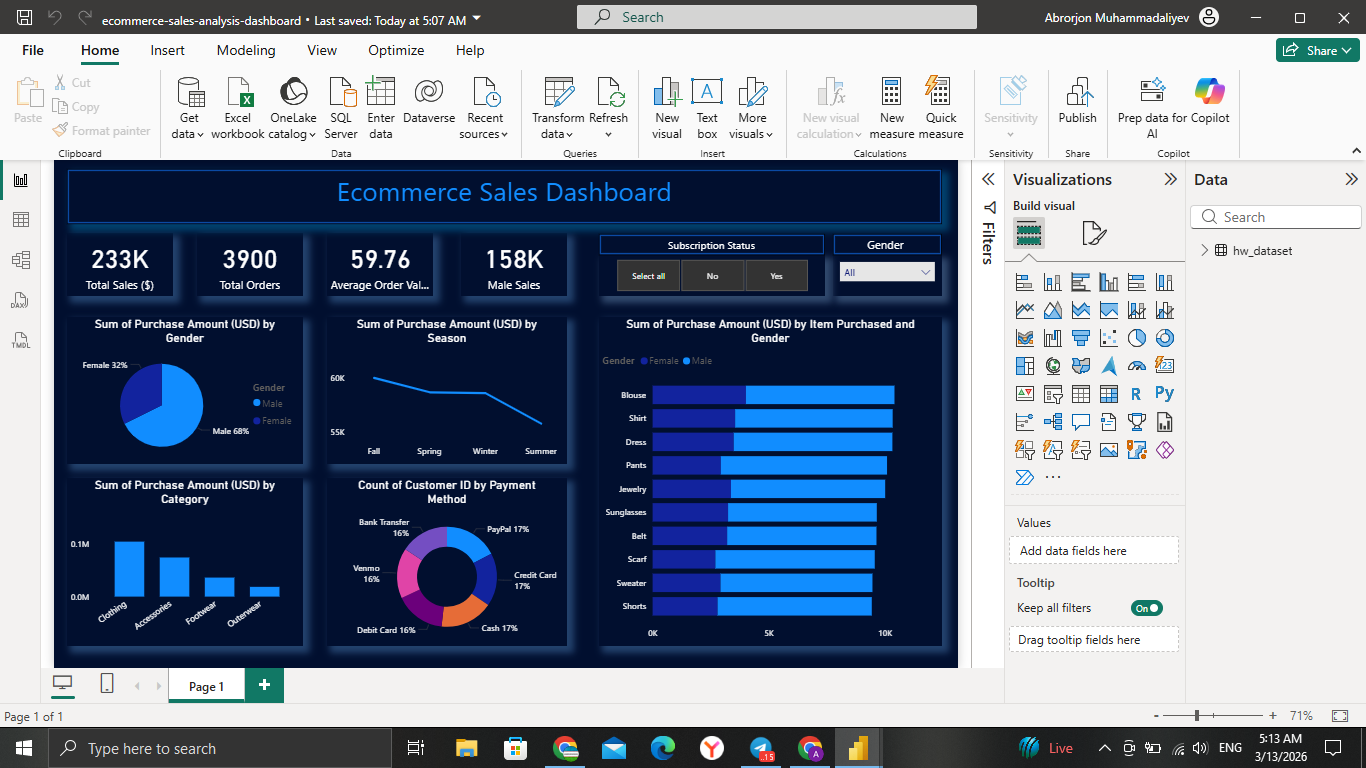

The page's visual inventory and layout, read from the dashboard file:
{"tool":"powerbi","page":{"name":"Page 1","canvas":[1280,720],"ordinal":0},"visuals":[{"type":"card","fields":{"Values":["hw_dataset.Total Orders"]},"box":[202.7,103.5,150.2,89.3],"z":0},{"type":"card","fields":{"Values":["hw_dataset.Total Sales"]},"box":[18.4,103.5,150,89.3],"z":1000},{"type":"card","fields":{"Values":["hw_dataset.Average Order Value"]},"box":[386.9,103.5,150.2,89.3],"z":2000},{"type":"card","fields":{"Values":["hw_dataset.Male Sales"]},"box":[576.9,103.5,150.2,89.3],"z":3000},{"type":"shape","box":[18.4,12.8,1240.2,78],"z":4000},{"type":"textbox","box":[63.8,12.8,1149.4,78],"z":5000},{"type":"barChart","fields":{"Category":["hw_dataset.Item Purchased"],"Y":["Sum(hw_dataset.Purchase Amount (USD))"],"Series":["hw_dataset.Gender"]},"box":[772.4,222.5,486.1,466.3],"z":6000},{"type":"pieChart","fields":{"Category":["hw_dataset.Gender"],"Y":["Sum(hw_dataset.Purchase Amount (USD))"]},"box":[18.4,222.5,334.5,208.3],"z":7000},{"type":"columnChart","fields":{"Category":["hw_dataset.Category"],"Y":["Sum(hw_dataset.Purchase Amount (USD))"]},"box":[18.4,450.7,334.5,238.1],"z":8000},{"type":"lineChart","fields":{"Category":["hw_dataset.Season"],"Y":["Sum(hw_dataset.Purchase Amount (USD))"]},"box":[386.9,222.5,340.2,208.3],"z":9000},{"type":"donutChart","fields":{"Category":["hw_dataset.Payment Method"],"Y":["CountNonNull(hw_dataset.Customer ID)"]},"box":[386.9,450.7,340.2,238.1],"z":10000},{"type":"slicer","fields":{"Values":["hw_dataset.Gender"]},"box":[1104.1,134.6,154.5,58.1],"z":11000},{"type":"slicer","fields":{"Values":["hw_dataset.Subscription Status"]},"box":[772.4,134.6,320.3,58.1],"z":12000},{"type":"shape","box":[772.4,104.9,320.3,29.8],"z":13000},{"type":"textbox","box":[782.4,104.9,299.1,29.8],"z":14000},{"type":"shape","box":[1104.1,104.9,154.5,29.8],"z":15000},{"type":"textbox","box":[1121.1,103.5,114.8,31.2],"z":16000}]}

Visuals, with their boxes on the page's 1280x720 design canvas (x1, y1, x2, y2). These are canvas units, not pixel positions in the 1366x768 screenshot, which may show the page scaled, cropped or inside an application window:
card - hw_dataset.Total Orders: 203 104 353 193
card - hw_dataset.Total Sales: 18 104 168 193
card - hw_dataset.Average Order Value: 387 104 537 193
card - hw_dataset.Male Sales: 577 104 727 193
shape: 18 13 1259 91
textbox: 64 13 1213 91
barChart - hw_dataset.Item Purchased x Sum(hw_dataset.Purchase Amount (USD)): 772 222 1258 689
pieChart - hw_dataset.Gender x Sum(hw_dataset.Purchase Amount (USD)): 18 222 353 431
columnChart - hw_dataset.Category x Sum(hw_dataset.Purchase Amount (USD)): 18 451 353 689
lineChart - hw_dataset.Season x Sum(hw_dataset.Purchase Amount (USD)): 387 222 727 431
donutChart - hw_dataset.Payment Method x CountNonNull(hw_dataset.Customer ID): 387 451 727 689
slicer - hw_dataset.Gender: 1104 135 1259 193
slicer - hw_dataset.Subscription Status: 772 135 1093 193
shape: 772 105 1093 135
textbox: 782 105 1082 135
shape: 1104 105 1259 135
textbox: 1121 104 1236 135
